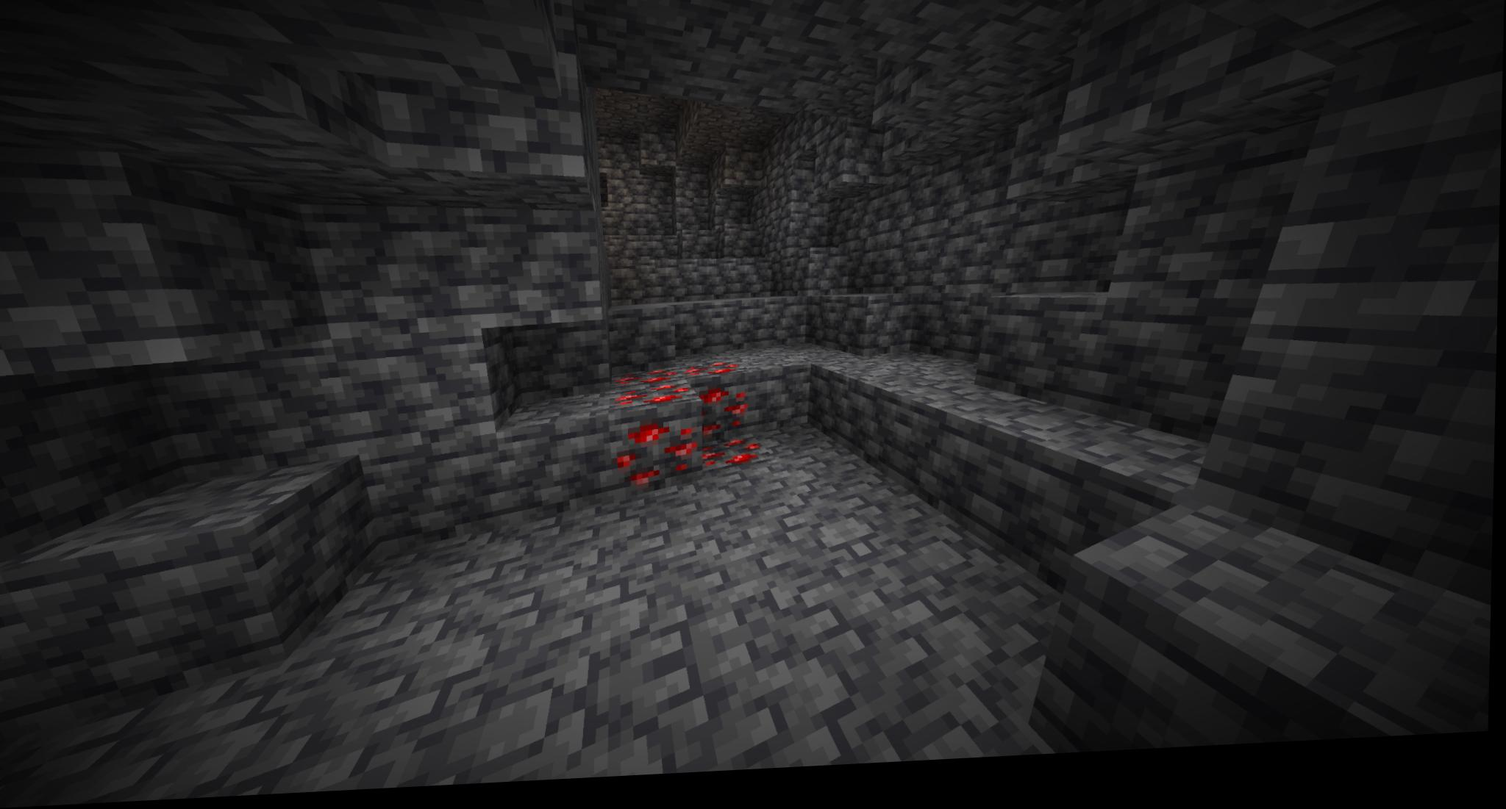redstone ore: (612, 369, 741, 419), (616, 421, 694, 491), (695, 392, 749, 444), (701, 445, 769, 485)
